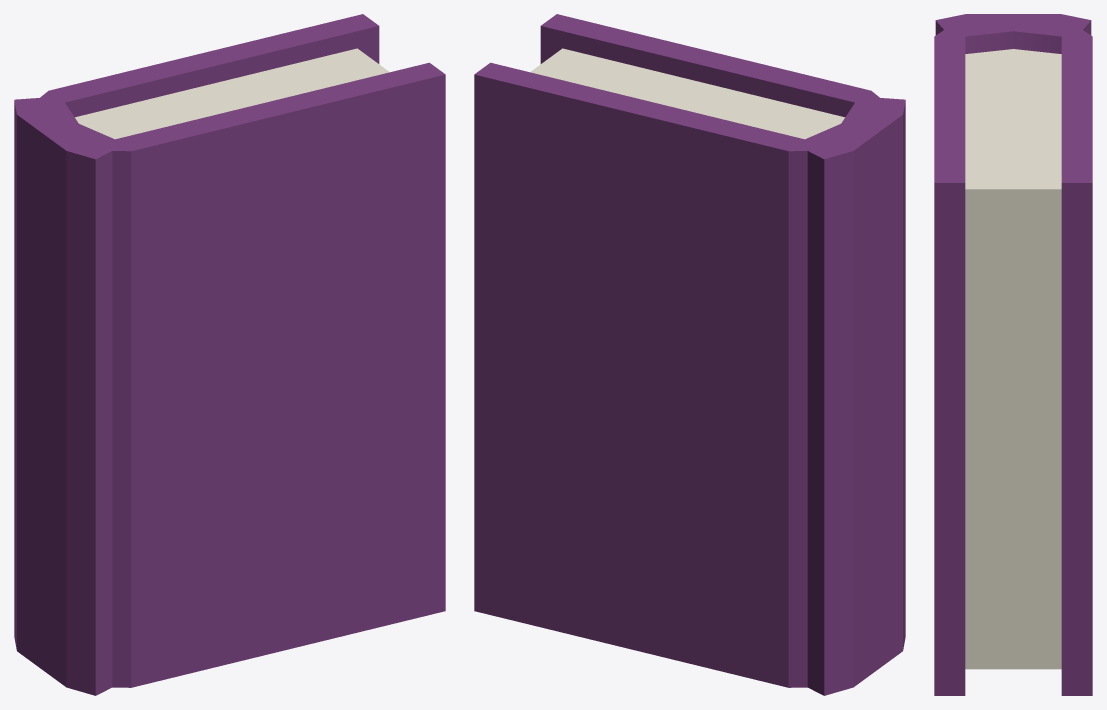
Rendered from book 2.fbx.
3 renders of one model, left to right at view 1: azimuth 30°, elevation 25°; view 2: azimuth 150°, elevation 25°; view 3: azimuth 270°, elevation 25°, orthographic. The views are drawn at different scales.
Parts seen in each view (by area): view 1: pCube276; view 2: pCube276; view 3: pCube276.
Boxes of the visible parts, left/top/right/bottom form: pCube276: left=14, top=14, right=445, bottom=695; pCube276: left=474, top=14, right=905, bottom=695; pCube276: left=934, top=14, right=1092, bottom=695.
Size of the model in its own units: 0.2237 by 0.3163 by 0.0883.
